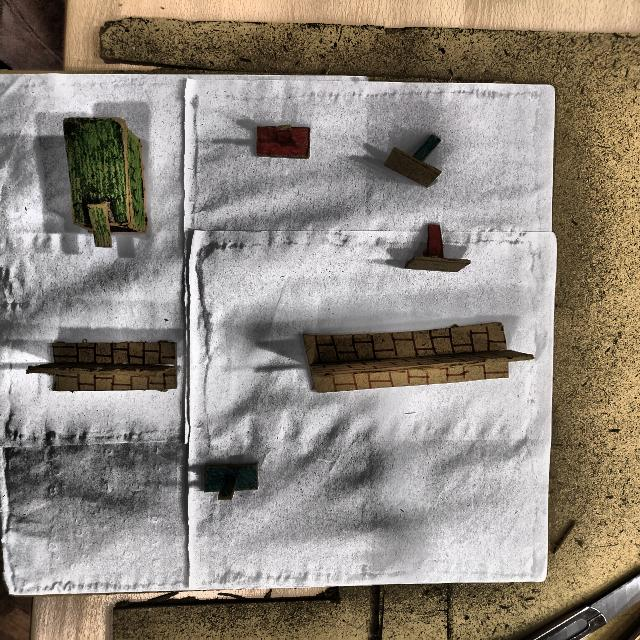Dead soldier -enemy-: (399, 222, 472, 276)
Dead soldier -frd-: (380, 133, 448, 190)
Tank: (61, 117, 151, 258)
Wall: (298, 322, 536, 395), (25, 340, 186, 395)
enemy: (250, 122, 337, 167)
friend: (200, 459, 263, 504)
